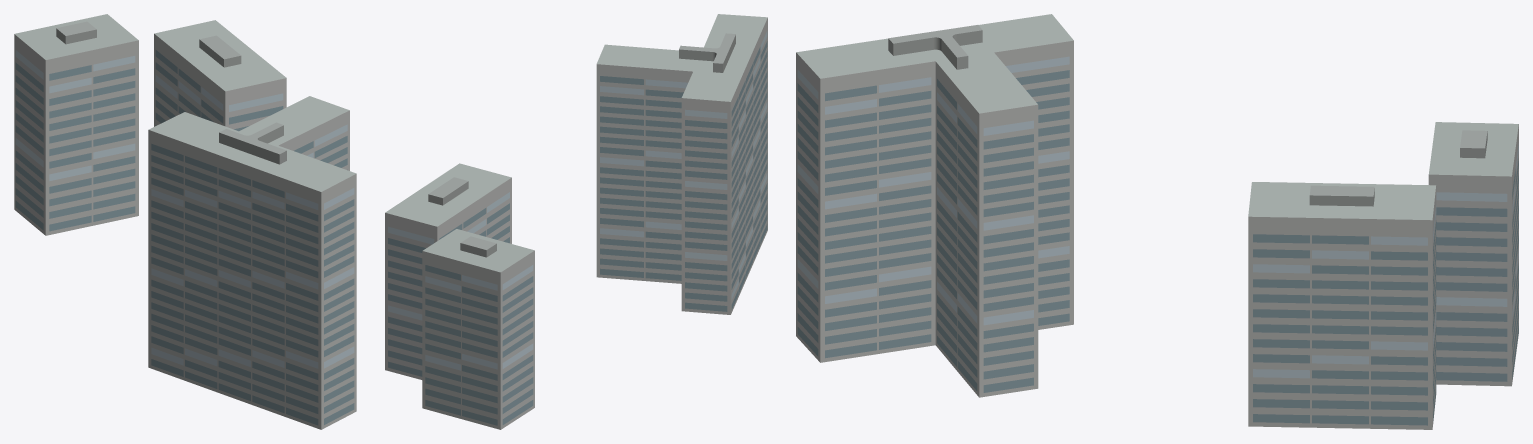
Rendered from apt-a15383601.glb.
The picture shows the model from 3 angles, left to right: view 1: azimuth 30°, elevation 25°; view 2: azimuth 150°, elevation 25°; view 3: azimuth 270°, elevation 25°; orthographic projection. The views are drawn at different scales.
Parts seen in each view (by area): view 1: apt-a15383601; view 2: apt-a15383601; view 3: apt-a15383601.
Boxes of the visible parts, left/top/right/bottom form: apt-a15383601: left=14, top=14, right=356, bottom=429; apt-a15383601: left=385, top=14, right=767, bottom=429; apt-a15383601: left=796, top=14, right=1518, bottom=429.
Bounding box in the file's own units: 55.4 × 58 × 128.
